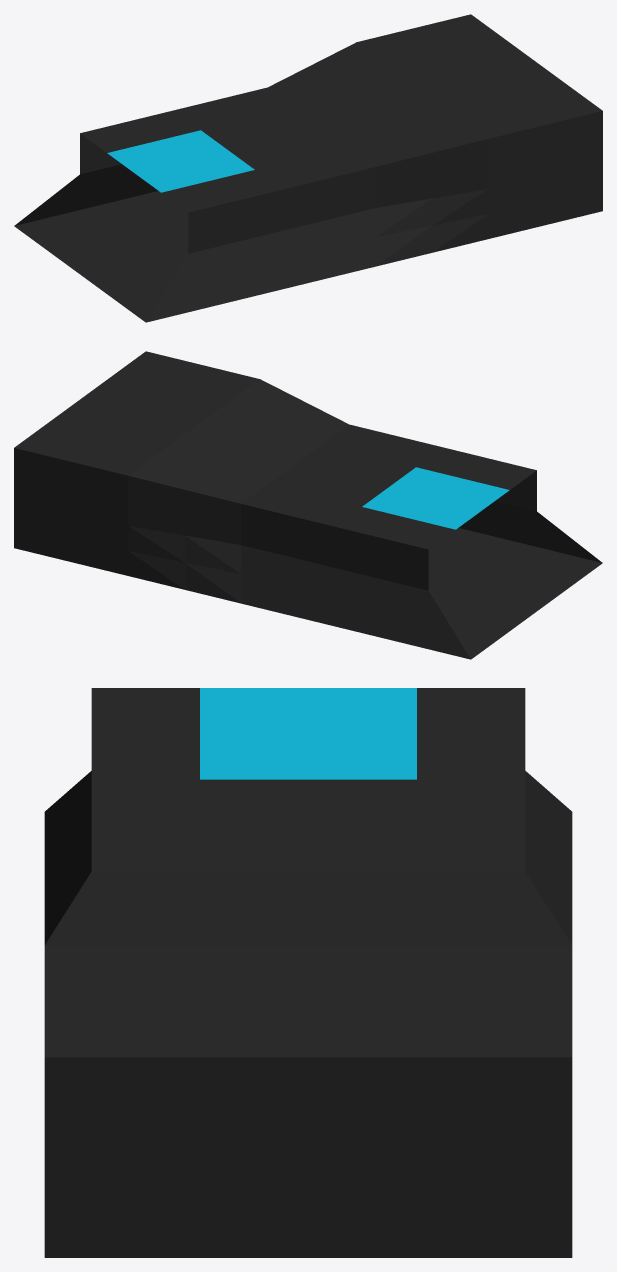
The model's file is Pickup.dae.
The picture shows the model from 3 angles, top to bottom: view 1: azimuth 30°, elevation 25°; view 2: azimuth 150°, elevation 25°; view 3: azimuth 270°, elevation 25°; orthographic projection. The views are drawn at different scales.
Parts seen in each view (by area): view 1: Cube; view 2: Cube; view 3: Cube.
Boxes of the visible parts, x1,y1,x2,y2 form: Cube: [14, 14, 602, 322]; Cube: [14, 351, 602, 659]; Cube: [44, 688, 572, 1257].
Bounding box in the file's own units: 4.87 × 2.43 × 1.02.
